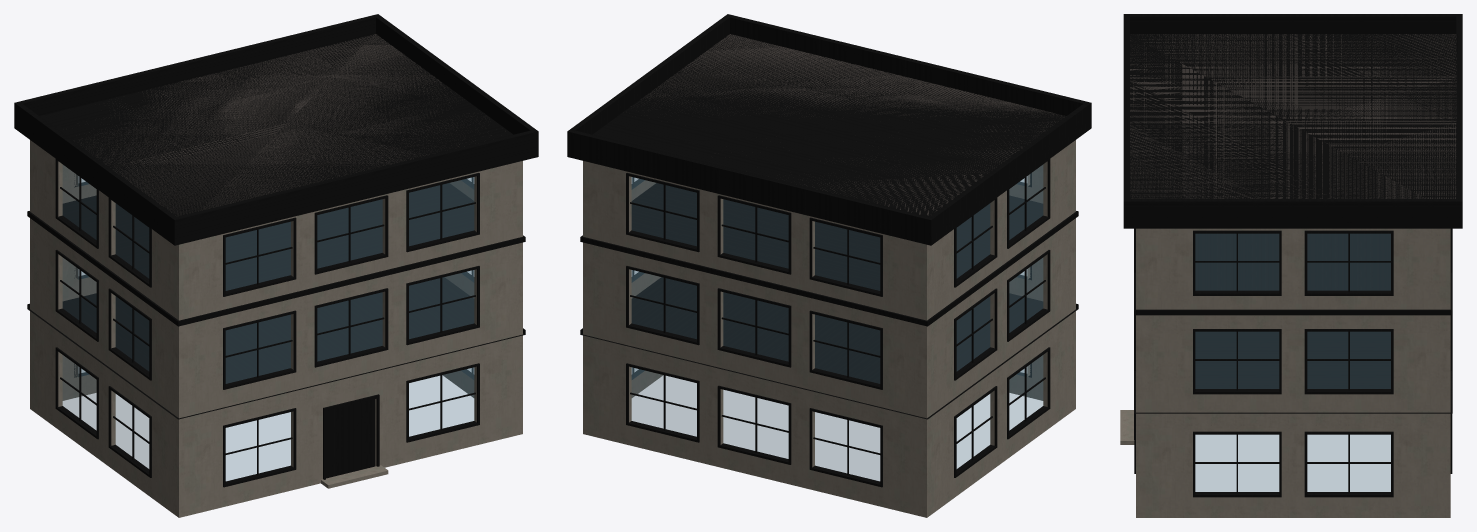
Rendered from modern_block_01.glb.
3 views of the same model, side by side, from view 1: azimuth 30°, elevation 25°; view 2: azimuth 150°, elevation 25°; view 3: azimuth 270°, elevation 25° (orthographic). The views are drawn at different scales.
Parts seen in each view (by area): view 1: modern_block_01; view 2: modern_block_01; view 3: modern_block_01.
Part boxes in pixels (x1,y1,x2,y2): modern_block_01: (14,14,538,517); modern_block_01: (567,14,1091,517); modern_block_01: (1120,14,1462,517).
Bounding box in the file's own units: 12.7 × 10.15 × 9.8.
5 materials, 4 textured.
